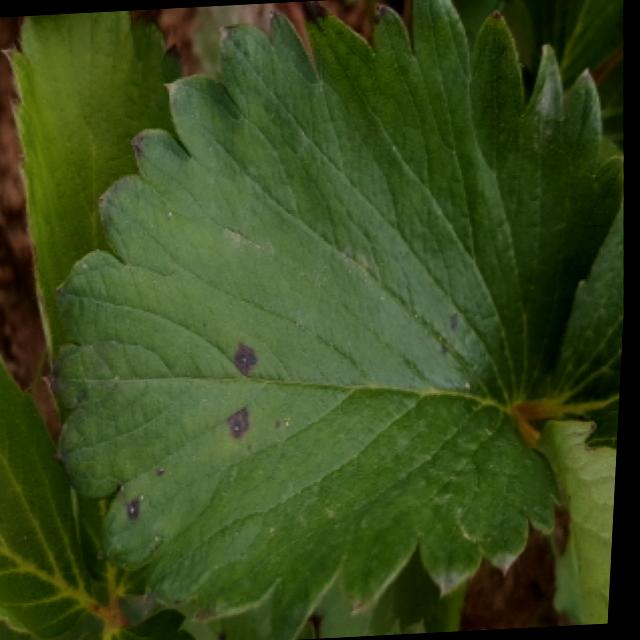Leaf Spot: (55, 0, 626, 640), (193, 597, 273, 640)
